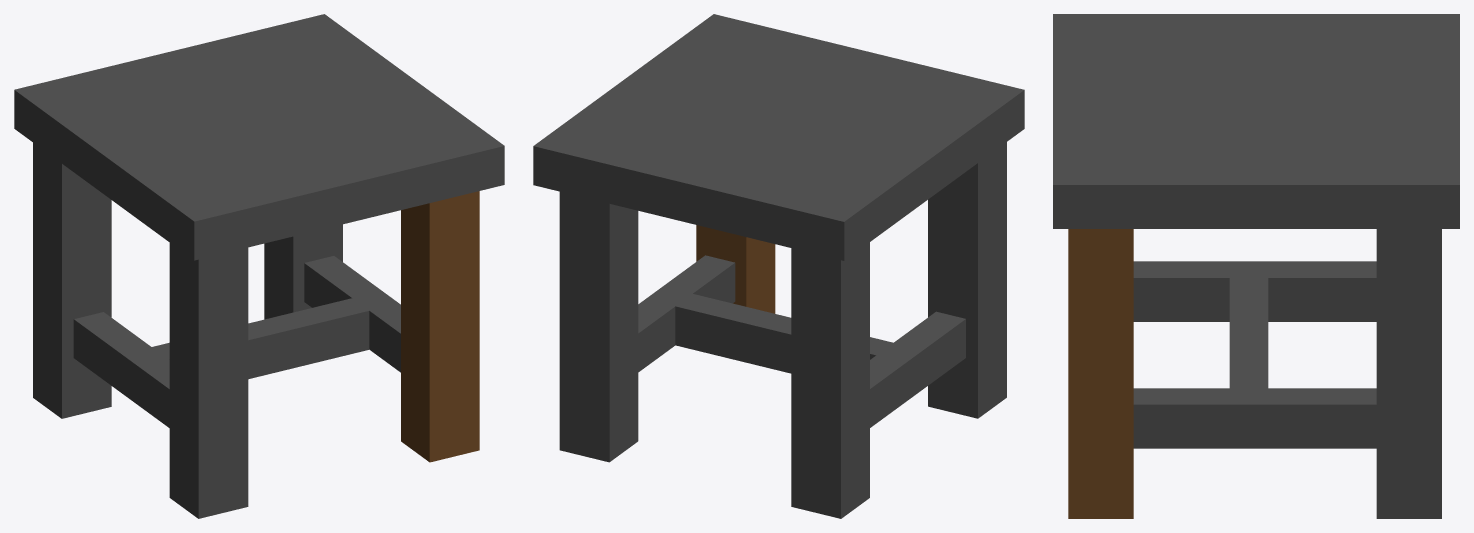
Rendered from taburetka.fbx.
3 views of the same model, side by side, from view 1: azimuth 30°, elevation 25°; view 2: azimuth 150°, elevation 25°; view 3: azimuth 270°, elevation 25° (orthographic). The views are drawn at different scales.
Visible parts, largest first — view 1: taburet; view 2: taburet; view 3: taburet.
Boxes of the visible parts, x1,y1,x2,y2 form: taburet: (14, 14, 504, 518); taburet: (533, 14, 1024, 518); taburet: (1053, 14, 1459, 518).
Bounding box in the file's own units: 0.83 × 0.7792 × 0.8347.
